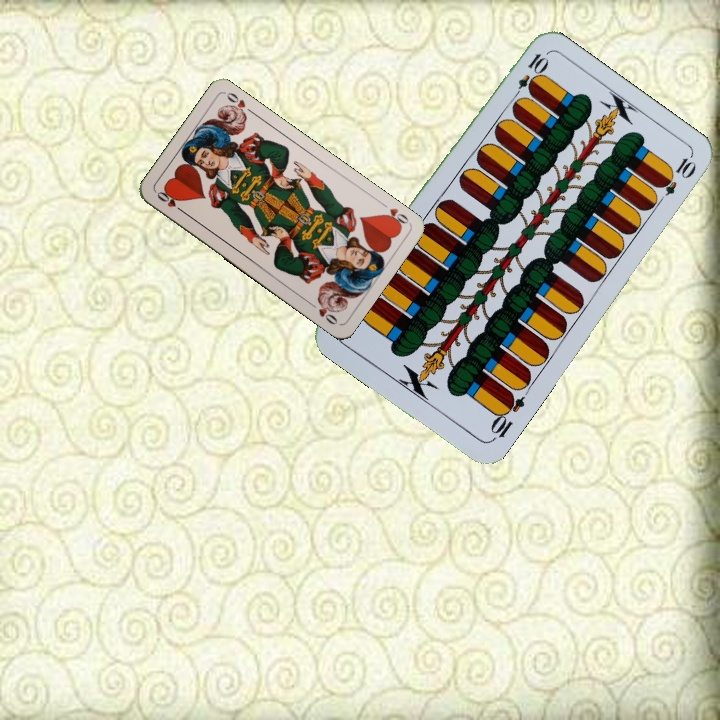E10: (486, 388, 528, 444), (508, 49, 549, 104)
HO: (153, 187, 188, 216), (379, 204, 411, 230)
